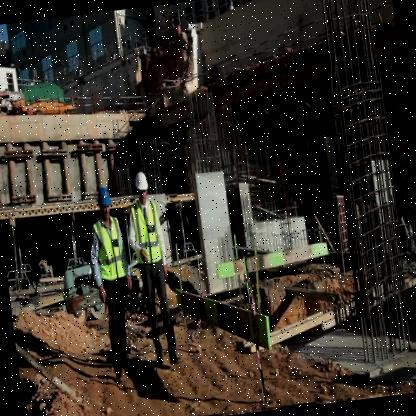capacete: (132, 170, 150, 207), (95, 184, 113, 219)
colete_refletivo: (94, 218, 125, 278), (130, 201, 161, 260)
